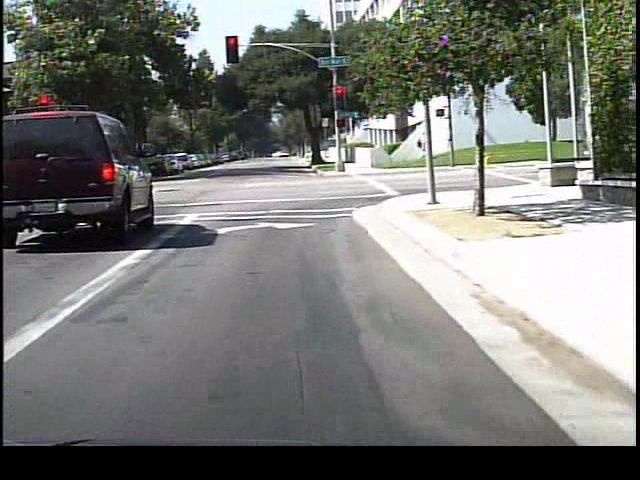person: (413, 127, 435, 169)
